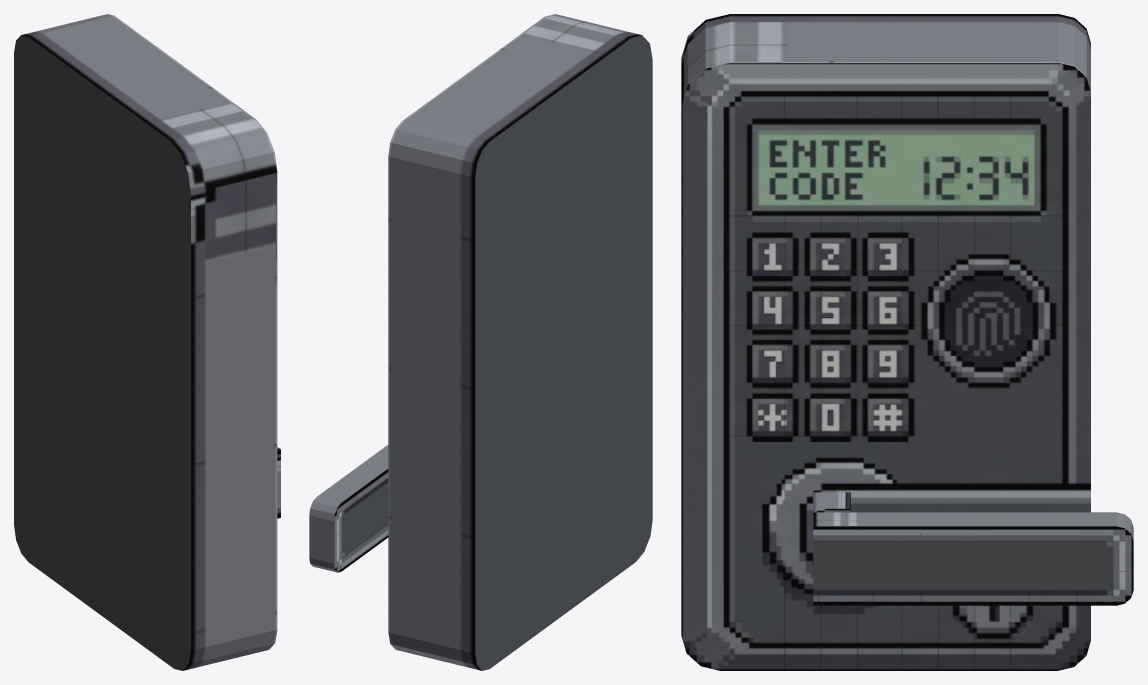
File: lock 1.fbx
The picture shows the model from 3 angles, left to right: view 1: azimuth 30°, elevation 25°; view 2: azimuth 150°, elevation 25°; view 3: azimuth 270°, elevation 25°; orthographic projection. The views are drawn at different scales.
Visible parts, largest first — view 1: Cube; view 2: Cube, 立方体; view 3: Cube, 立方体.
Part boxes in pixels (x1=…): Cube: x1=14, y1=14, x2=277, y2=670; Cube: x1=388, y1=14, x2=652, y2=670; 立方体: x1=309, y1=444, x2=388, y2=572; Cube: x1=681, y1=14, x2=1090, y2=670; 立方体: x1=813, y1=492, x2=1133, y2=605.
Bounding box in the file's own units: 70.46 × 241 × 162.
